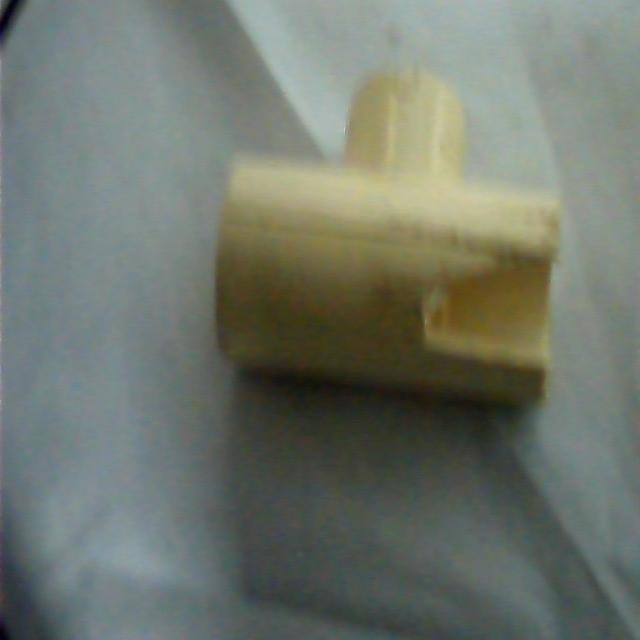Defective: (408, 196, 558, 394), (426, 259, 554, 371)
T Joint: (215, 68, 561, 410)
